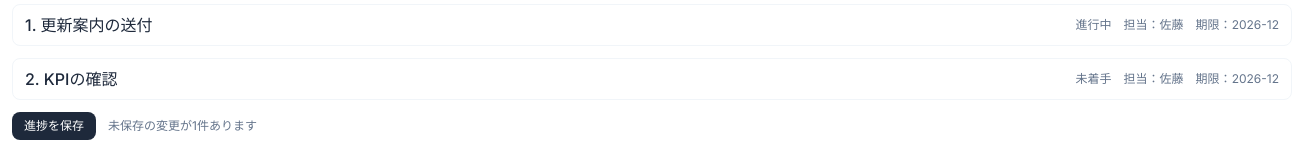
ActionProgressEditor（実施事項の進捗） › 変更した実施事項だけを、進捗と進捗メモだけで1回の保存にまとめる（課題・次の行動は送らない）
Earlier steps of the test are not shown.
Click the button "進捗を保存" at (54, 126), box [12,112,96,140]
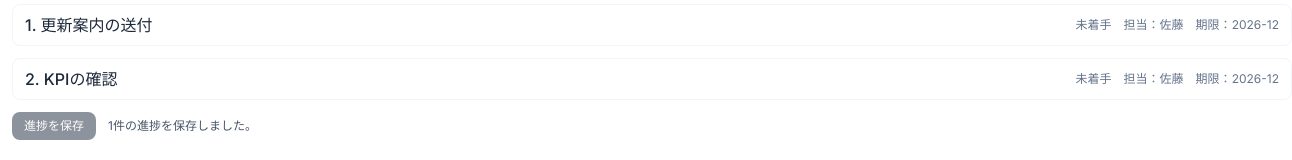
Result: the text "1件の進捗を保存しました。" is shown at [108,118,257,134]
